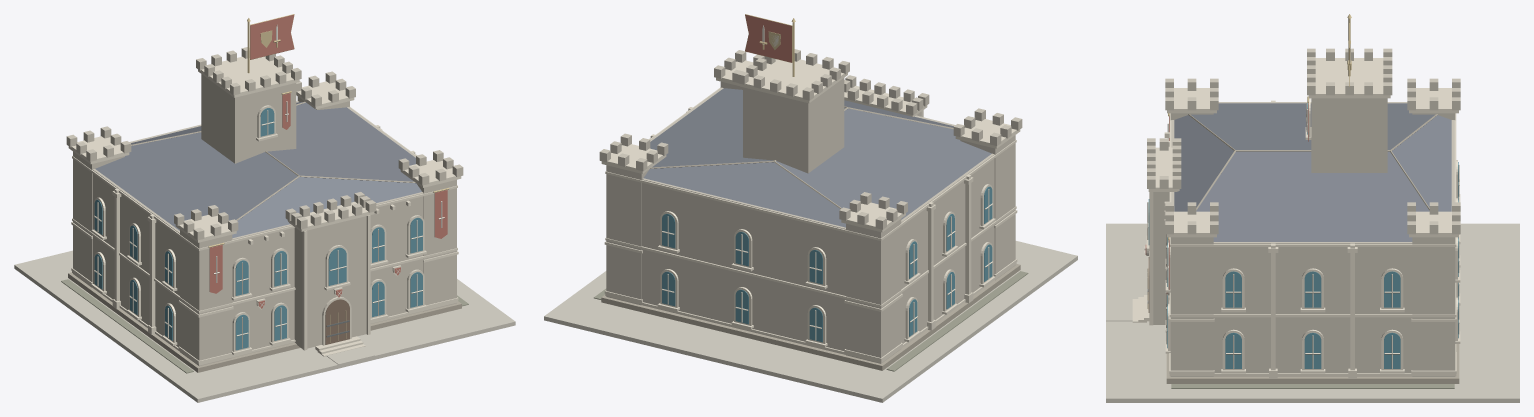
The model's file is WarriorAcademy_Lv4.fbx.
3 views of the same model, side by side, from view 1: azimuth 30°, elevation 25°; view 2: azimuth 150°, elevation 25°; view 3: azimuth 270°, elevation 25° (orthographic). The views are drawn at different scales.
Parts seen in each view (by area): view 1: Slate hip roof.005, Main school walls.015, Fixed 26m plot.015, Corner bastion.003, Merlons.004, Projecting entrance bay.015, Window glass.015, Central command tower.004, Battlement cornice.004, Window frame.015, Stone stringcourse.015, School foundation.015 (+12 smaller); view 2: Main school walls.015, Slate hip roof.005, Fixed 26m plot.015, Corner bastion.003, Merlons.004, Central command tower.004, Battlement cornice.004, Window glass.015, Stone stringcourse.015, School foundation.015, Window frame.015, Decor side pilasters.015 (+6 smaller); view 3: Slate hip roof.005, Fixed 26m plot.015, Main school walls.015, Corner bastion.003, Battlement cornice.004, Merlons.004, Central command tower.004, Window glass.015, Stone stringcourse.015, Window frame.015, School foundation.015, Projecting entrance bay.015 (+9 smaller).
Part boxes in pixels (x1,y1,x2,y2): Slate hip roof.005: (95,102,421,238); Main school walls.015: (92,101,423,357); Fixed 26m plot.015: (14,250,515,402); Corner bastion.003: (73,96,456,366); Merlons.004: (66,47,463,240); Projecting entrance bay.015: (294,216,366,348); Window glass.015: (94,108,422,350); Central command tower.004: (201,74,296,163); Battlement cornice.004: (68,56,461,242); Window frame.015: (94,105,424,351); Stone stringcourse.015: (72,101,457,365); School foundation.015: (68,272,461,372); Main school walls.015: (642,87,994,354); Slate hip roof.005: (643,88,991,227); Fixed 26m plot.015: (544,241,1077,402); Corner bastion.003: (606,81,1015,363); Merlons.004: (599,49,1022,229); Central command tower.004: (743,78,844,173); Battlement cornice.004: (601,59,1020,232); Window glass.015: (662,186,992,342); Stone stringcourse.015: (605,87,1016,363); School foundation.015: (601,264,1020,370); Window frame.015: (660,184,992,343); Decor side pilasters.015: (650,107,971,322); Slate hip roof.005: (1174,103,1451,241); Fixed 26m plot.015: (1106,223,1519,402); Main school walls.015: (1171,102,1454,376); Corner bastion.003: (1170,113,1455,376); Battlement cornice.004: (1148,58,1458,237); Merlons.004: (1147,48,1460,234); Central command tower.004: (1311,98,1387,172); Window glass.015: (1148,103,1458,368); Stone stringcourse.015: (1169,113,1456,376); Window frame.015: (1168,98,1457,370); School foundation.015: (1166,344,1459,383); Projecting entrance bay.015: (1153,192,1169,324).
Bounding box in the file's own units: 26 × 20.89 × 26.
